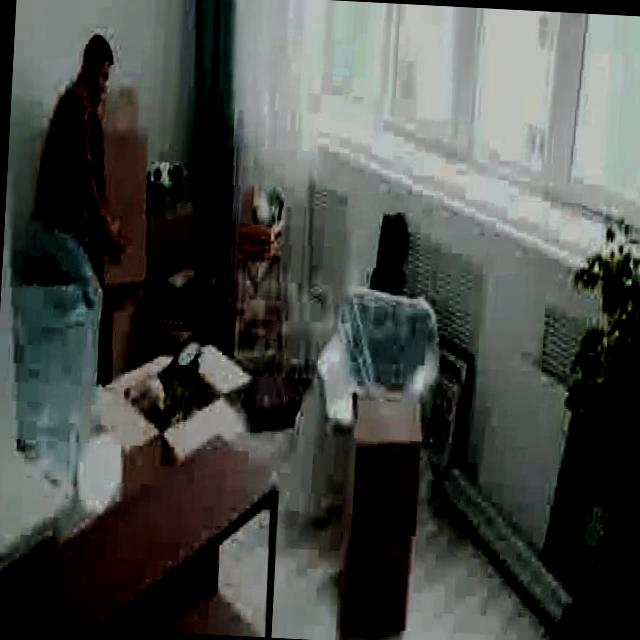Box: (346, 398, 423, 538), (338, 532, 412, 626)
